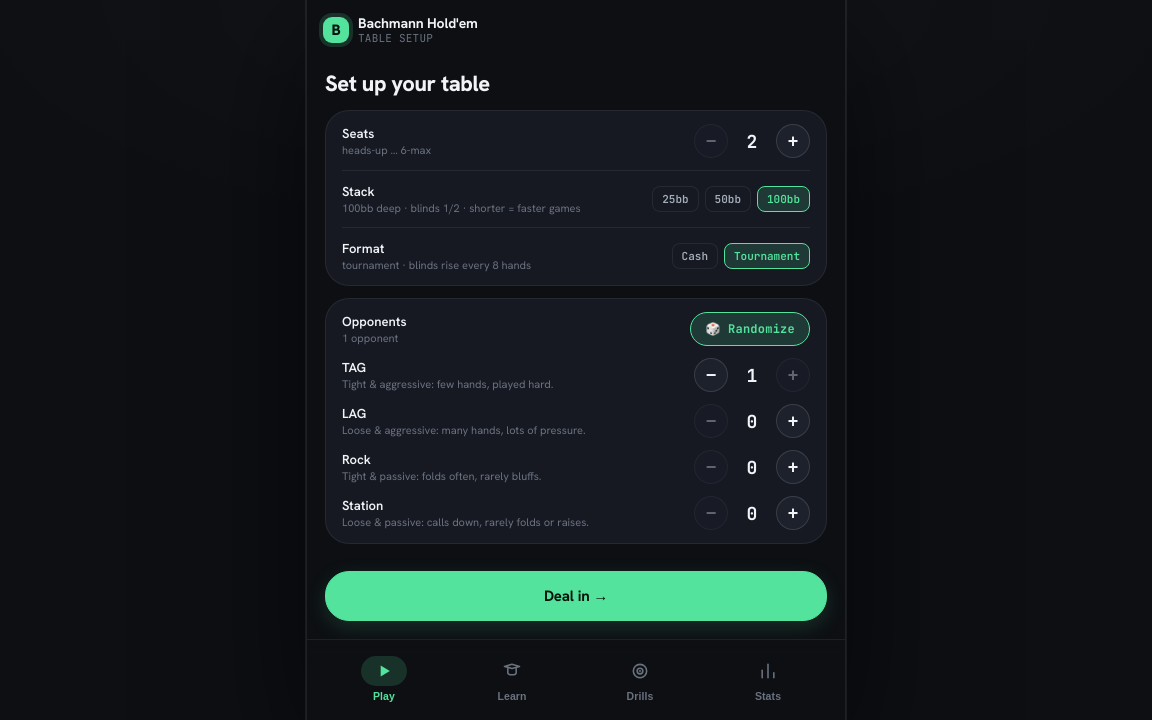
App — all-in runout reveal (ticket 0093) › reveals the board street by street and withholds the banner until the river
Click the button "Deal in →": click(576, 596) [325, 571, 827, 621]
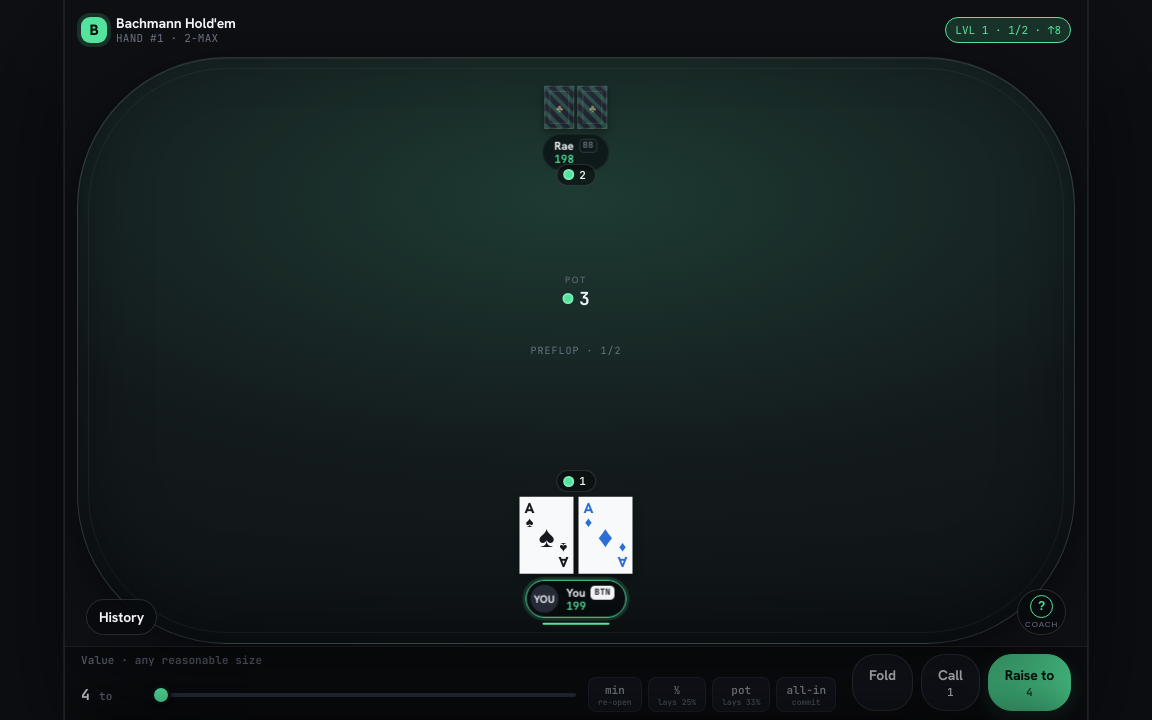
# Hero shoves all-in preflop.
Click the button "all-in commit": click(806, 694) [776, 677, 836, 712]
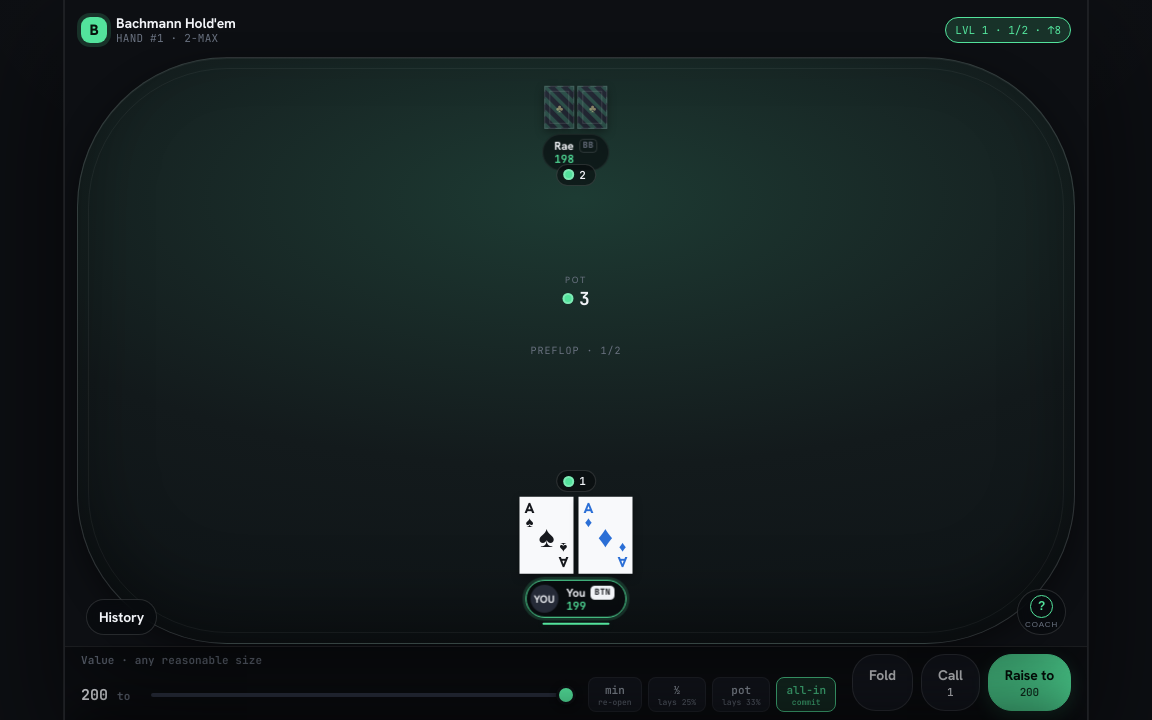
Click the button "Raise to 200": click(1029, 683) [988, 654, 1071, 711]
Wait 2800 ms
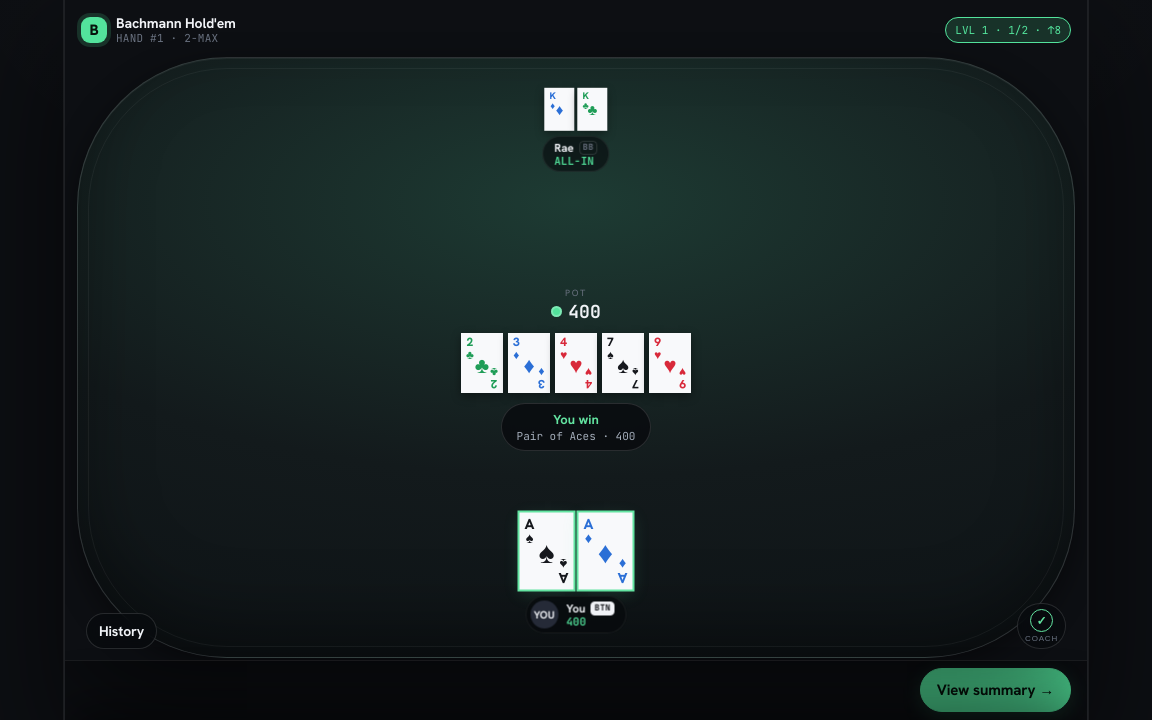
Expected: the element with test id "result-banner" is shown, [501, 404, 651, 452]
